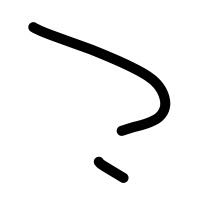a: (108, 47, 183, 147)
b: (12, 8, 122, 88)
i: (81, 147, 138, 192)
